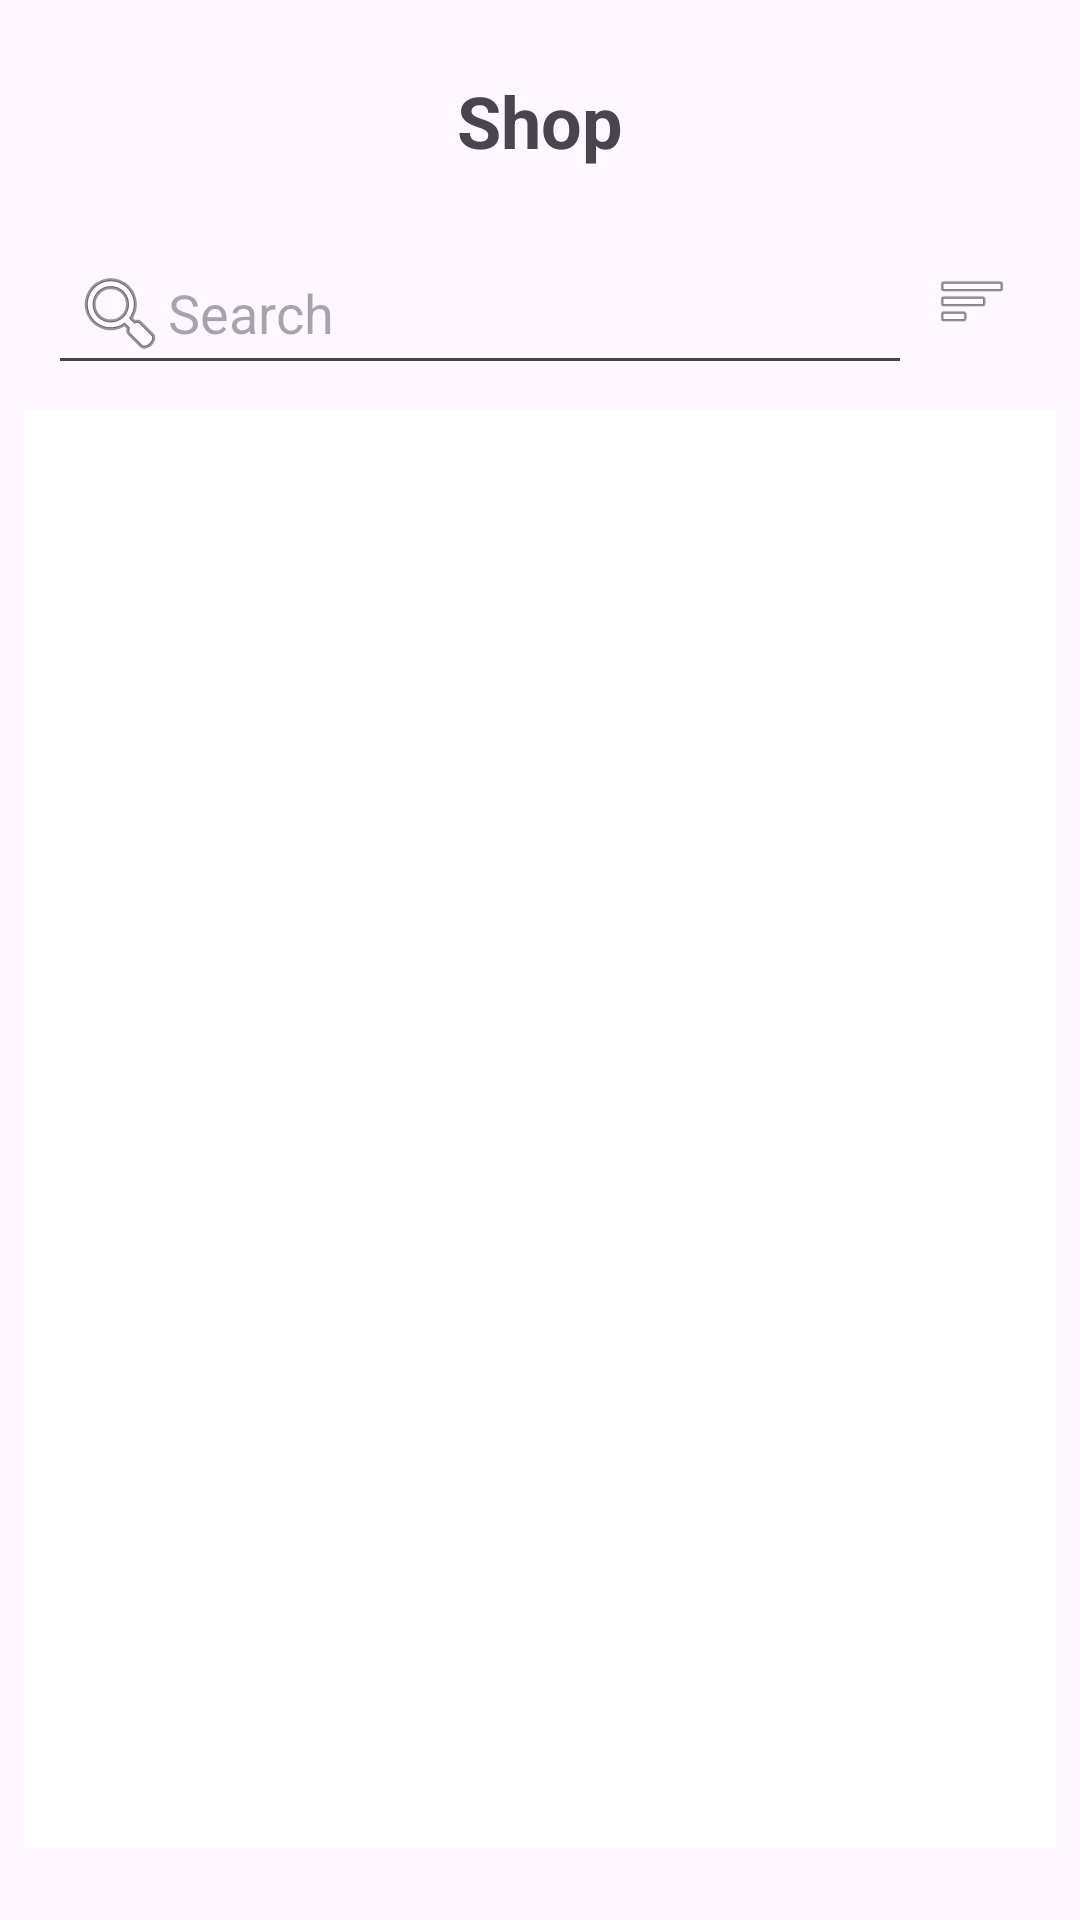

Icons on this 1080 x 1920 Android screen, each with the point to tap as [x,y]:
sort by size: [972,301]
